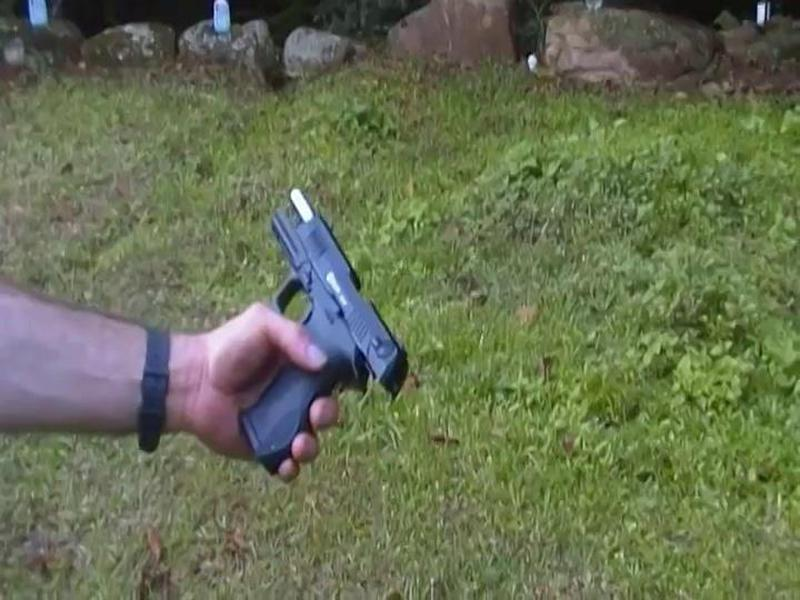Pistola: (197, 180, 429, 485)
